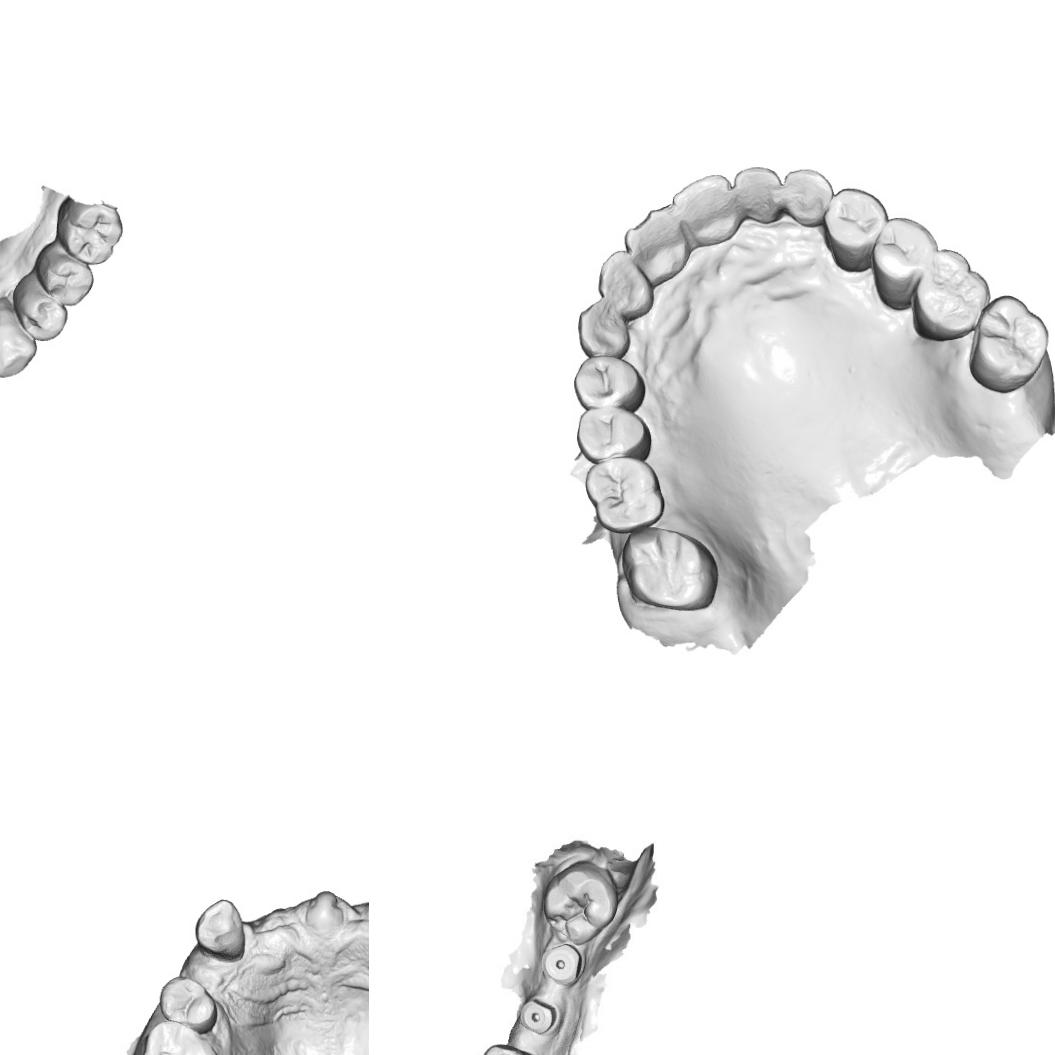canine: (576, 299, 634, 360), (193, 898, 246, 962), (781, 166, 832, 228), (0, 296, 38, 378)
implant: (536, 944, 585, 988), (518, 994, 556, 1038)
incisor: (620, 203, 688, 283), (669, 172, 738, 248), (596, 247, 654, 318), (731, 164, 785, 224)
molar: (620, 526, 717, 611), (968, 294, 1050, 394), (910, 246, 992, 343), (582, 456, 665, 535), (543, 861, 611, 941), (54, 193, 124, 265), (138, 1017, 222, 1055)
premolar: (872, 215, 938, 288), (822, 184, 890, 254), (570, 354, 647, 414), (10, 268, 69, 342), (573, 406, 651, 459), (34, 241, 96, 306), (158, 974, 220, 1036), (477, 1041, 538, 1055)
